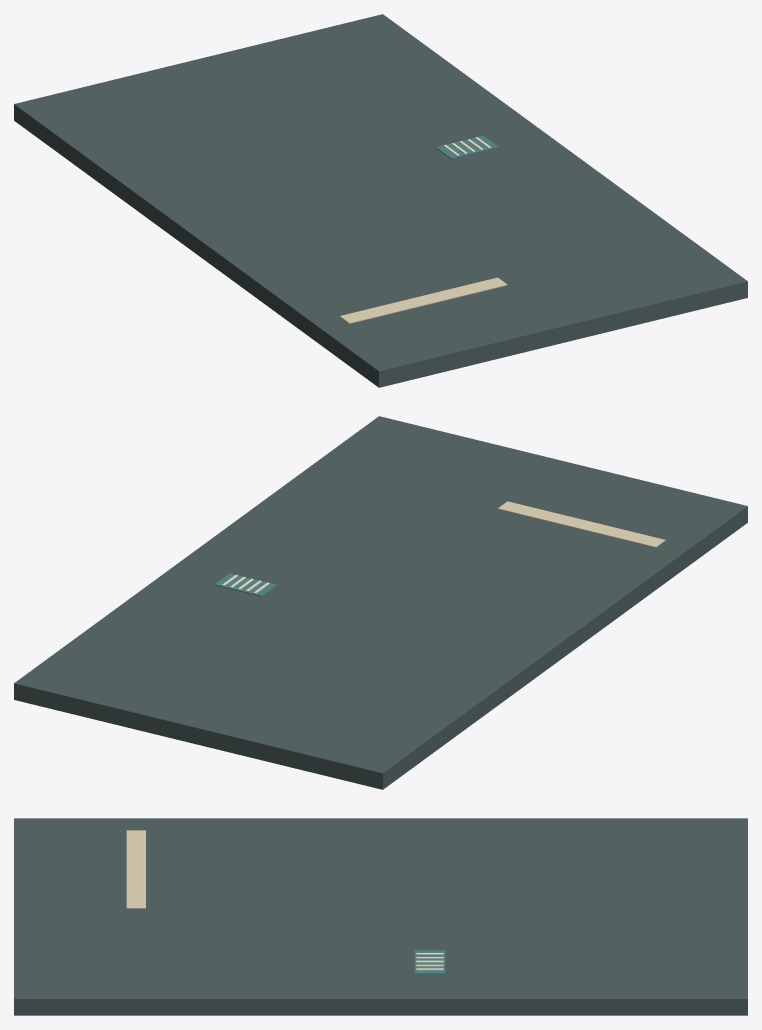
The model's file is hsc3_road_tile_7m.glb.
The picture shows the model from 3 angles, top to bottom: view 1: azimuth 30°, elevation 25°; view 2: azimuth 150°, elevation 25°; view 3: azimuth 270°, elevation 25°; orthographic projection.
Visible parts, largest first — view 1: hsc3_road_tile_7m__hsc3-charcoal-metal, hsc3_road_tile_7m__hsc3-cream-enamel, hsc3_road_tile_7m__hsc3-deep-teal; view 2: hsc3_road_tile_7m__hsc3-charcoal-metal, hsc3_road_tile_7m__hsc3-cream-enamel, hsc3_road_tile_7m__hsc3-deep-teal; view 3: hsc3_road_tile_7m__hsc3-charcoal-metal, hsc3_road_tile_7m__hsc3-cream-enamel, hsc3_road_tile_7m__hsc3-deep-teal, hsc3_road_tile_7m__hsc3-pale-trim.
Boxes of the visible parts, x1=… form: hsc3_road_tile_7m__hsc3-charcoal-metal: x1=14, y1=14, x2=747, y2=387; hsc3_road_tile_7m__hsc3-cream-enamel: x1=339, y1=277, x2=507, y2=323; hsc3_road_tile_7m__hsc3-deep-teal: x1=436, y1=135, x2=498, y2=159; hsc3_road_tile_7m__hsc3-charcoal-metal: x1=14, y1=416, x2=747, y2=789; hsc3_road_tile_7m__hsc3-cream-enamel: x1=498, y1=501, x2=665, y2=547; hsc3_road_tile_7m__hsc3-deep-teal: x1=214, y1=573, x2=277, y2=596; hsc3_road_tile_7m__hsc3-charcoal-metal: x1=14, y1=818, x2=747, y2=1015; hsc3_road_tile_7m__hsc3-cream-enamel: x1=126, y1=830, x2=145, y2=908; hsc3_road_tile_7m__hsc3-deep-teal: x1=414, y1=950, x2=445, y2=974; hsc3_road_tile_7m__hsc3-pale-trim: x1=416, y1=953, x2=443, y2=970.
Bounding box in the file's own units: 7 × 0.33 × 12.
